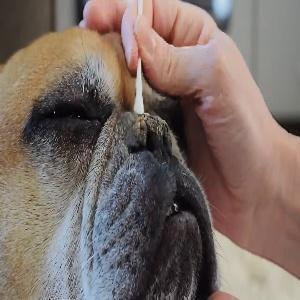keratosis: (116, 110, 173, 157)
